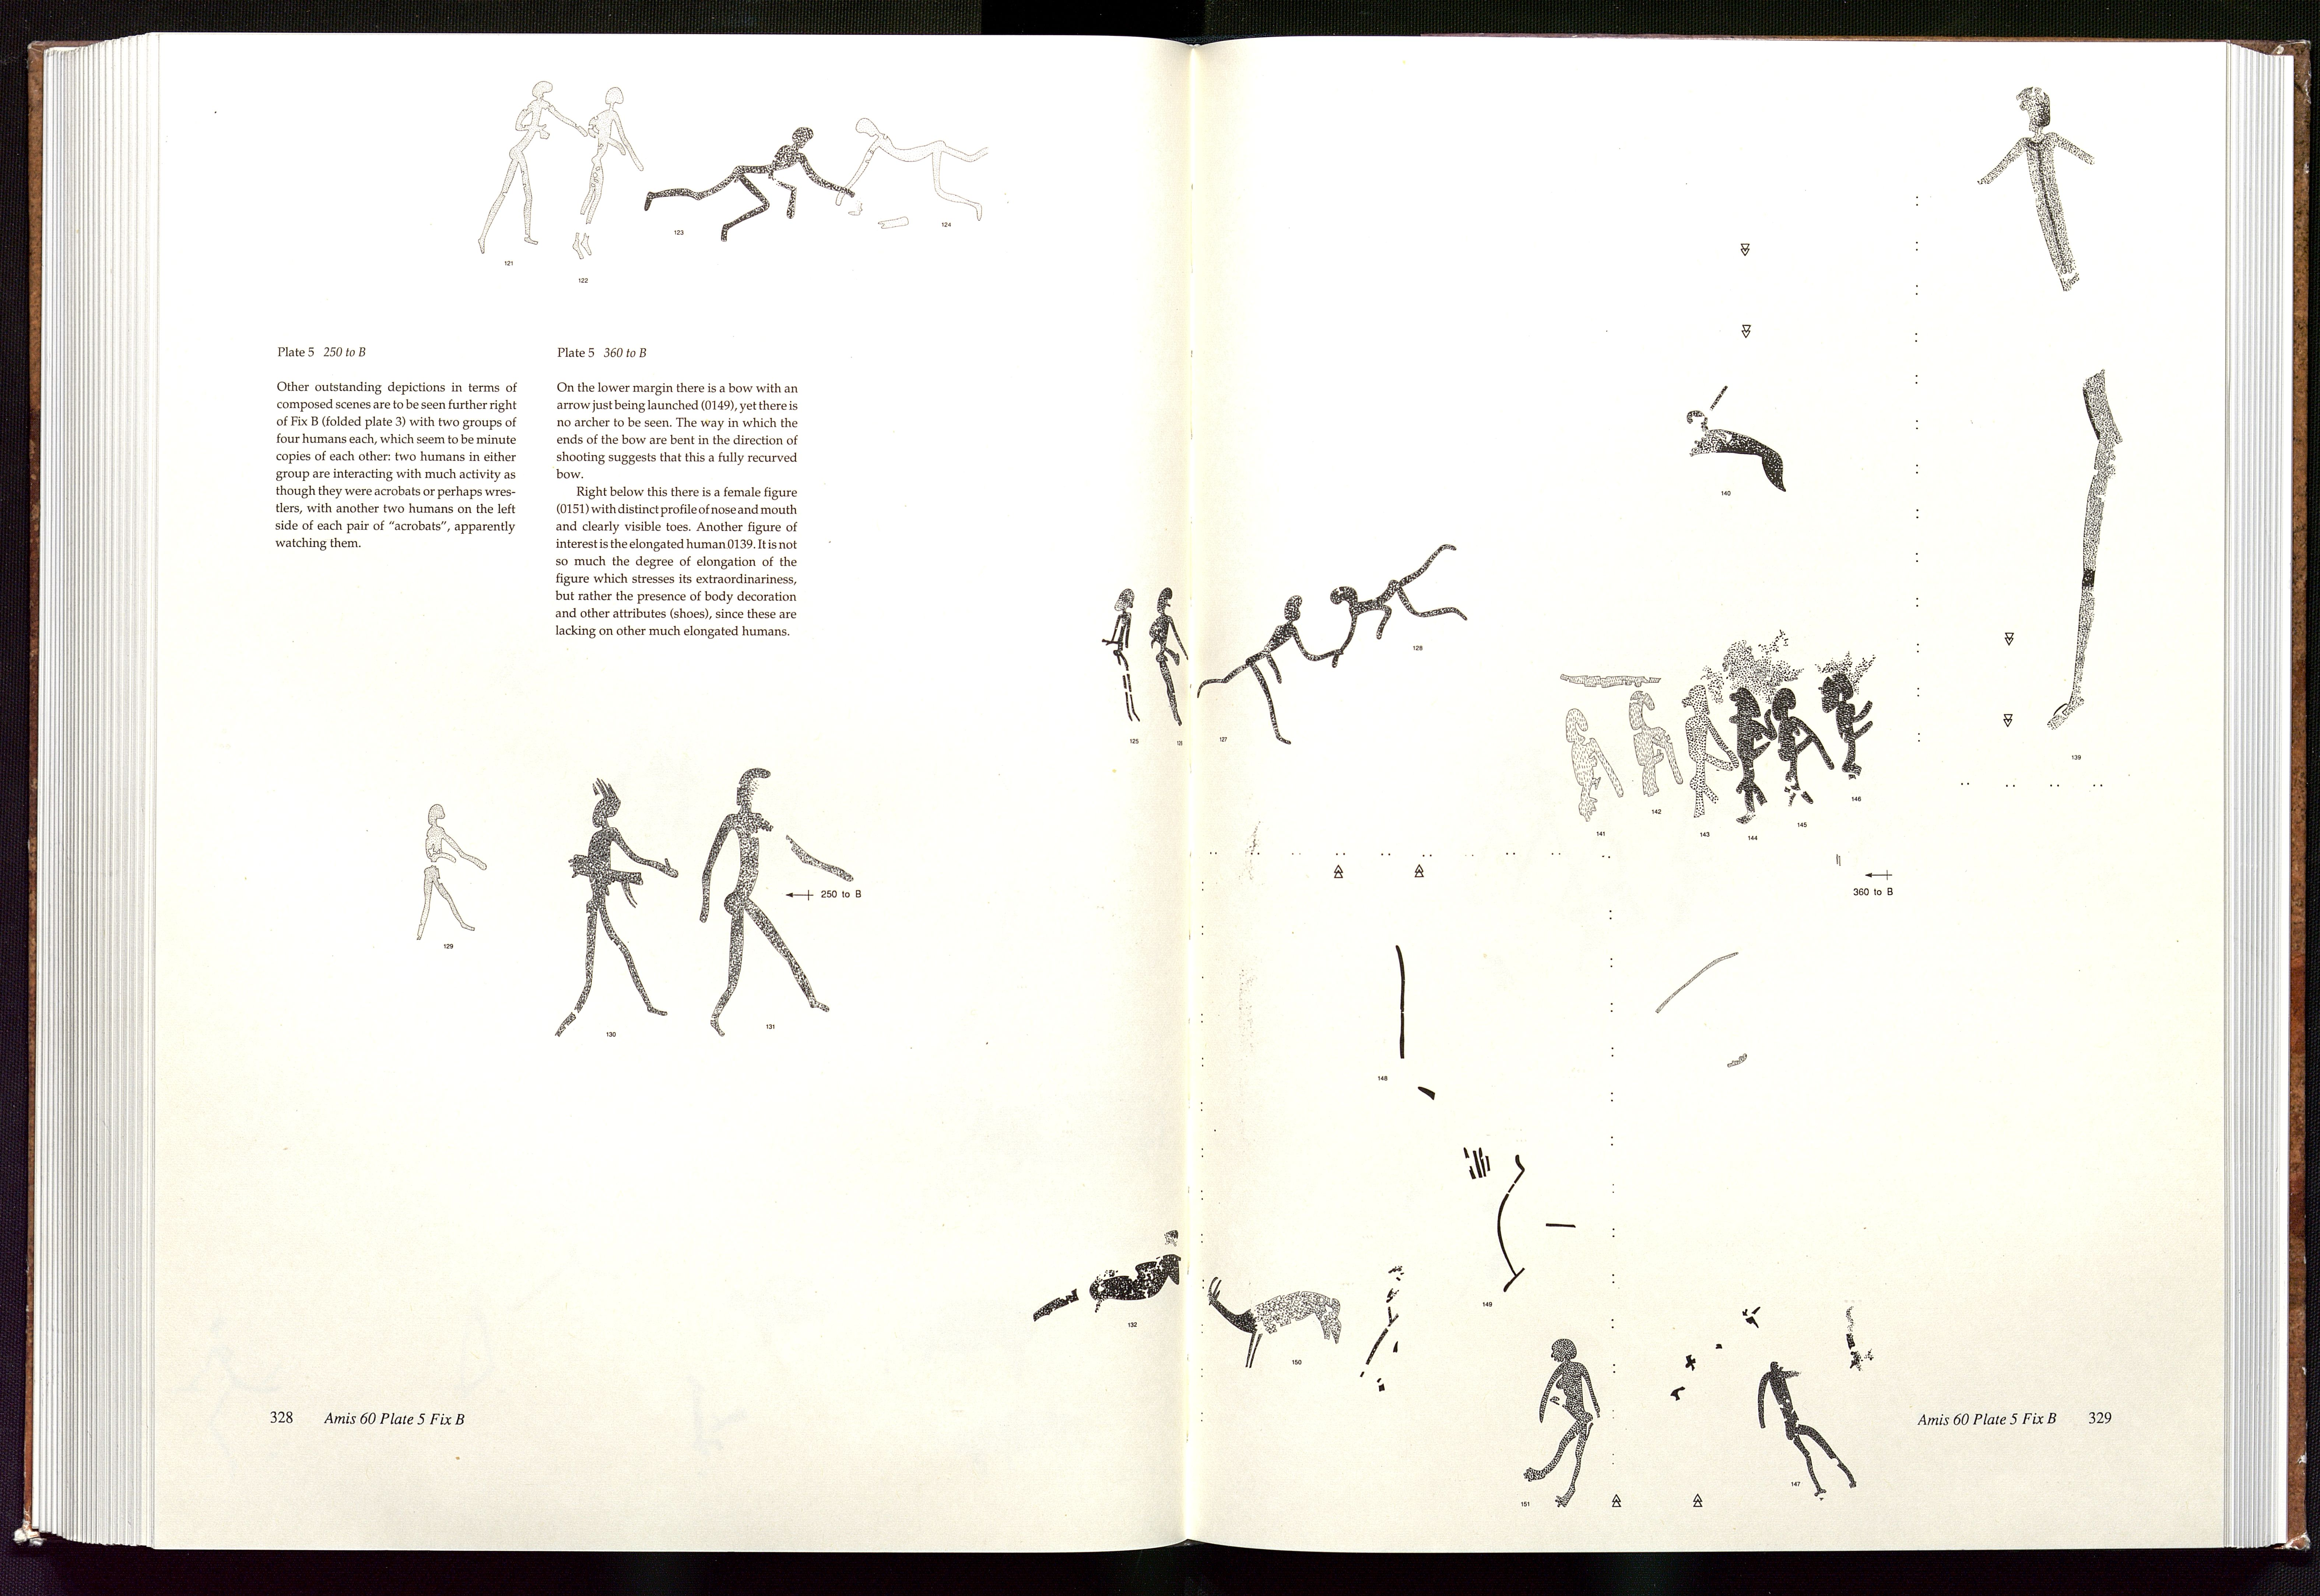animal: (1199, 1275, 1344, 1371), (1085, 1244, 1189, 1316)
human: (1966, 69, 2133, 743), (691, 753, 870, 1043), (548, 775, 684, 1047), (636, 126, 856, 243), (1194, 593, 1342, 748), (471, 73, 585, 258), (839, 111, 996, 234), (1745, 1350, 1863, 1509), (1329, 539, 1474, 669), (1521, 1332, 1608, 1511), (570, 81, 645, 264), (406, 799, 494, 944), (1769, 673, 1838, 814), (1555, 697, 1624, 827), (1724, 677, 1782, 830), (1681, 682, 1738, 832), (1818, 664, 1881, 789), (1102, 581, 1151, 736), (1623, 690, 1683, 815), (1146, 583, 1187, 734)
